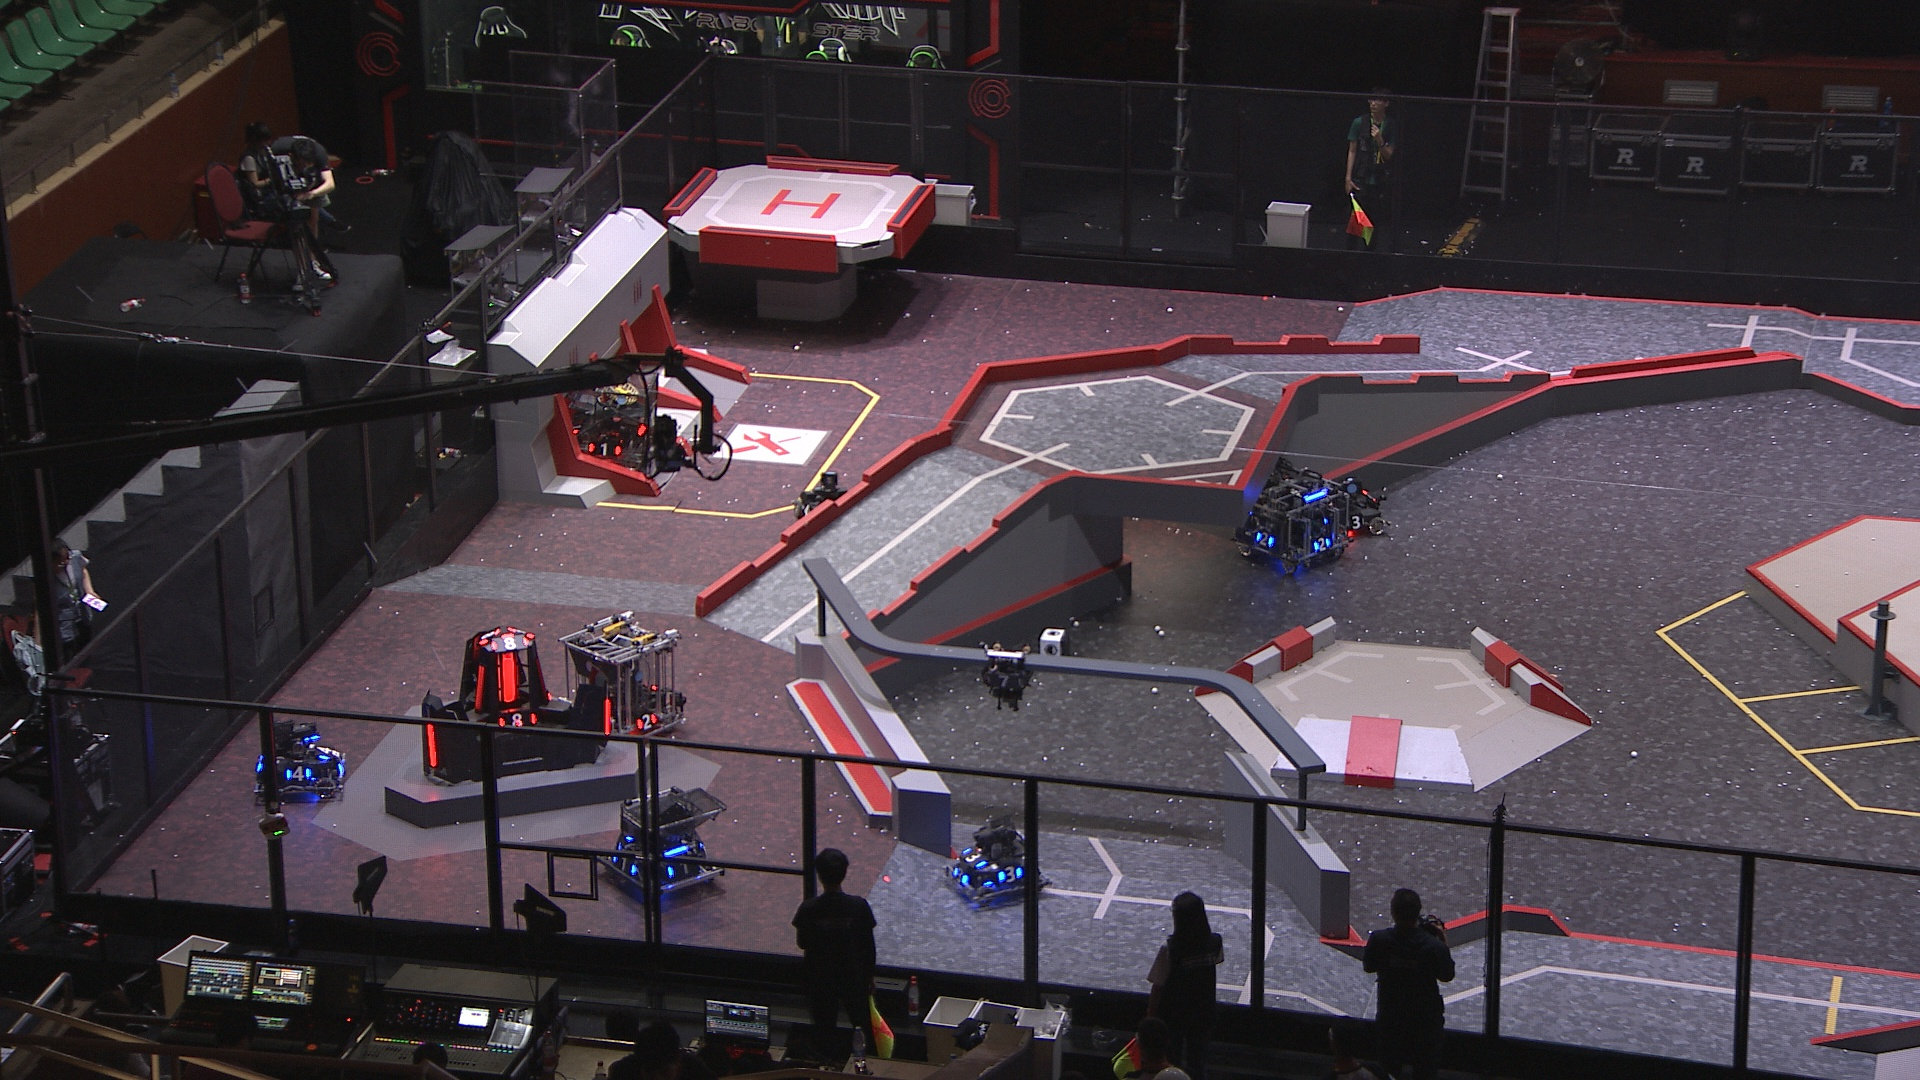armor: (495, 655, 518, 703), (607, 855, 640, 880), (496, 711, 537, 731), (994, 865, 1025, 887), (282, 765, 313, 787), (472, 665, 487, 711), (489, 636, 531, 651), (986, 674, 1021, 692), (585, 440, 622, 458), (425, 721, 438, 767), (960, 847, 989, 866), (667, 860, 690, 878), (1253, 531, 1276, 549), (636, 713, 657, 732), (1344, 516, 1367, 531), (603, 698, 612, 737), (1309, 537, 1335, 551), (313, 745, 334, 761), (479, 626, 496, 645), (949, 868, 969, 884), (571, 422, 584, 436), (800, 502, 814, 516)
base: (417, 622, 618, 789)
car: (560, 611, 686, 740), (593, 787, 732, 895), (1233, 456, 1346, 572), (556, 368, 659, 475), (944, 814, 1050, 907), (251, 717, 348, 799), (790, 471, 856, 541), (1319, 479, 1386, 541)
watcher: (978, 642, 1036, 709)
